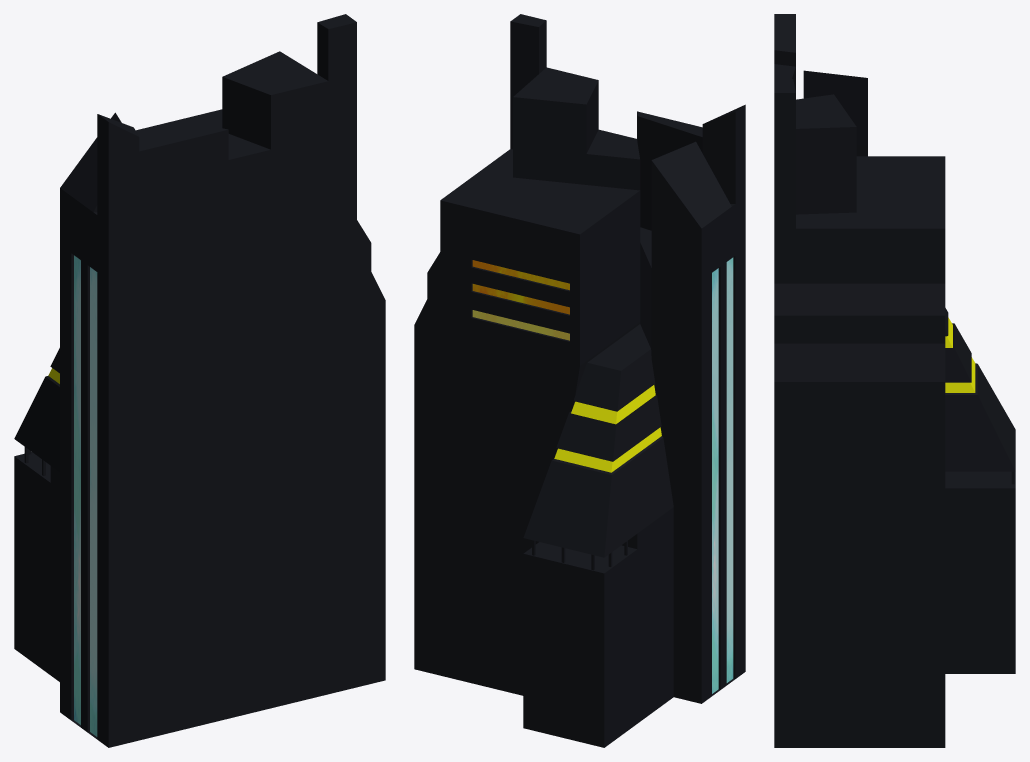
File: test_decor_6.fbx
3 views of the same model, side by side, from view 1: azimuth 30°, elevation 25°; view 2: azimuth 150°, elevation 25°; view 3: azimuth 270°, elevation 25° (orthographic). The views are drawn at different scales.
Visible parts, largest first — view 1: Cube.046; view 2: Cube.046; view 3: Cube.046.
Part boxes in pixels (<box>): Cube.046: <box>14,14,385,747</box>; Cube.046: <box>414,14,745,747</box>; Cube.046: <box>774,14,1015,747</box>.
Size of the model in its own units: 1643 by 3770 by 1286.
